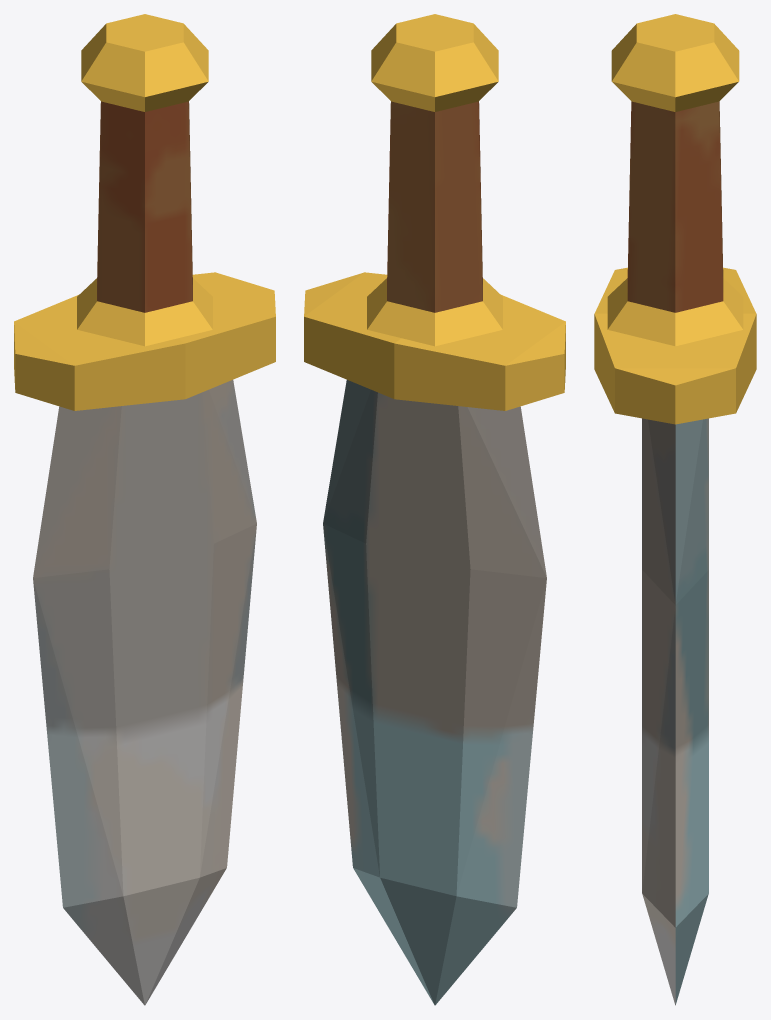
Rendered from weapons44.fbx.
The picture shows the model from 3 angles, left to right: view 1: azimuth 30°, elevation 25°; view 2: azimuth 150°, elevation 25°; view 3: azimuth 270°, elevation 25°; orthographic projection.
Parts seen in each view (by area): view 1: weapons 44; view 2: weapons 44; view 3: weapons 44.
Part boxes in pixels (left/top/right/bottom): weapons 44: left=14, top=14, right=275, bottom=1005; weapons 44: left=304, top=14, right=565, bottom=1005; weapons 44: left=594, top=14, right=756, bottom=1005.
Size of the model in its own units: 49.66 by 178 by 26.88.
1 material, 1 textured.
